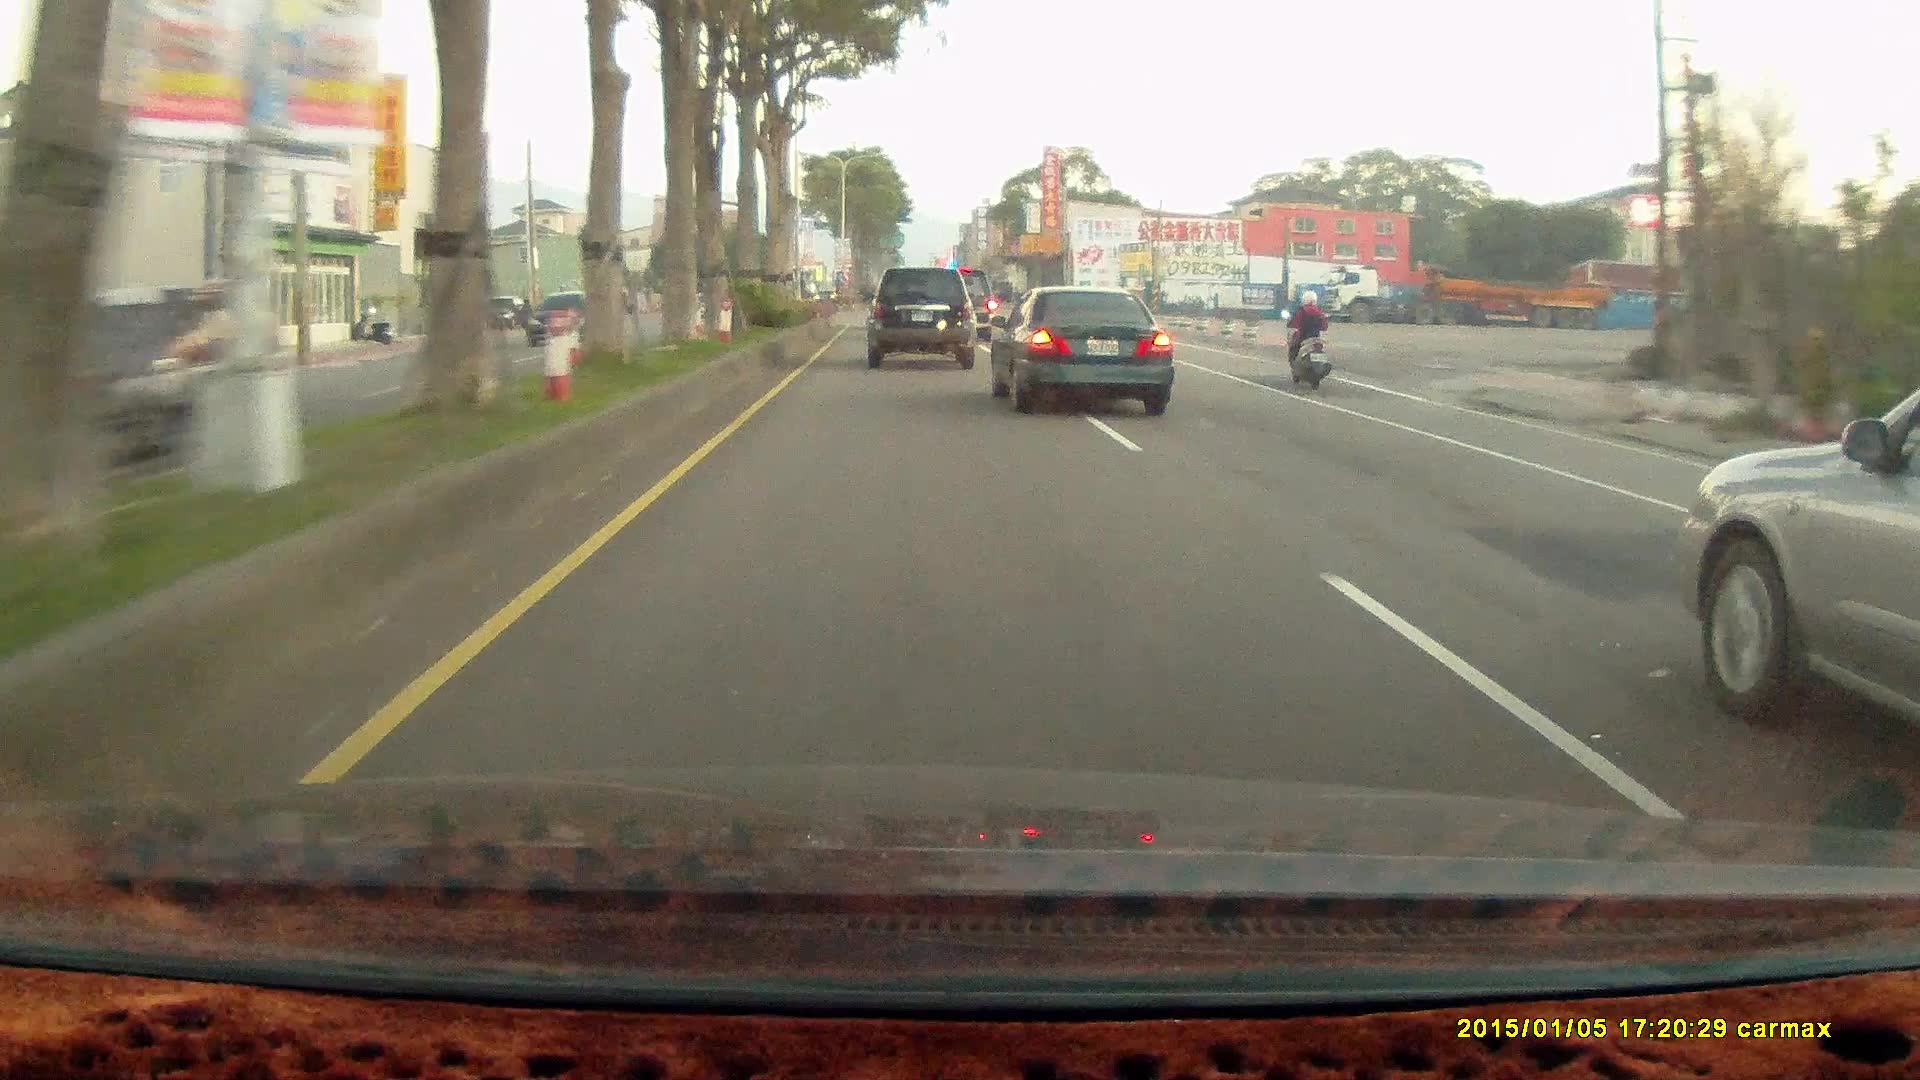rider: (1273, 280, 1342, 400), (1281, 285, 1332, 386)
vehicle: (1692, 377, 1920, 760), (14, 285, 278, 478), (57, 285, 224, 449), (989, 284, 1173, 413), (986, 286, 1174, 412), (1330, 263, 1609, 330), (867, 266, 979, 371), (864, 267, 976, 368), (928, 270, 997, 347), (526, 290, 612, 346), (474, 292, 528, 329)
